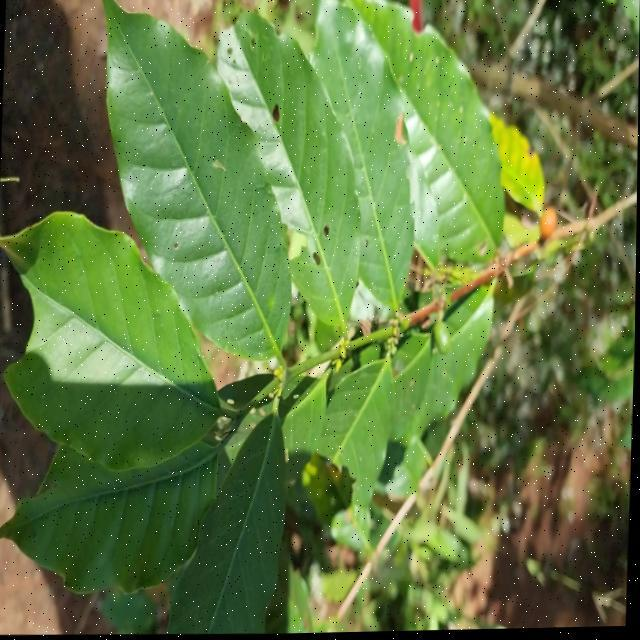leaves: (61, 0, 323, 385), (0, 182, 234, 506), (204, 0, 402, 340), (356, 0, 523, 276), (306, 0, 440, 315), (0, 445, 220, 593)
